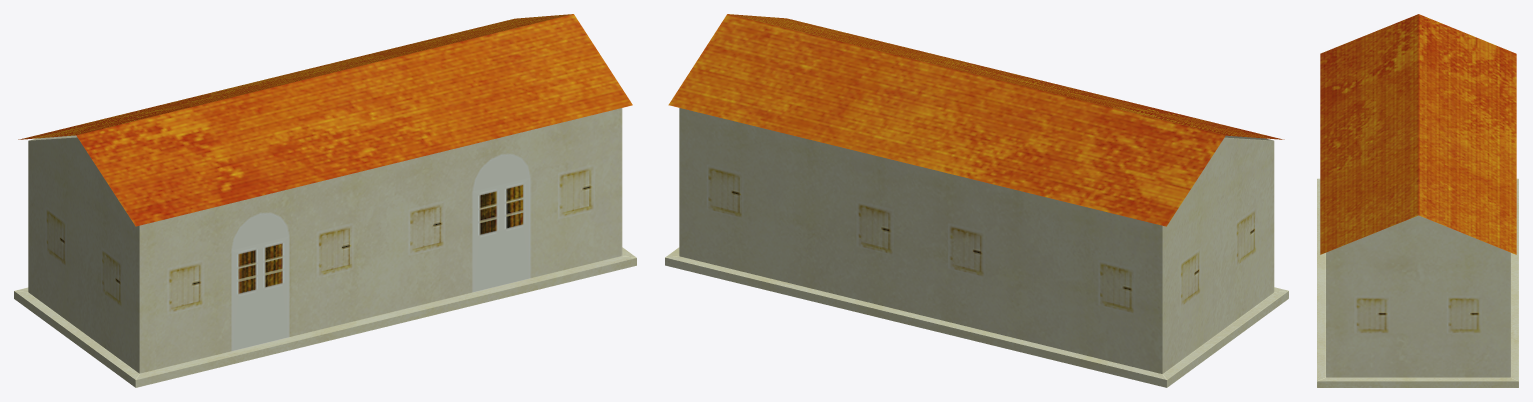
The model's file is House_Semi_D_2_LOD_1.fbx.
3 views of the same model, side by side, from view 1: azimuth 30°, elevation 25°; view 2: azimuth 150°, elevation 25°; view 3: azimuth 270°, elevation 25° (orthographic). The views are drawn at different scales.
Visible parts, largest first — view 1: Cube; view 2: Cube; view 3: Cube.
Boxes of the visible parts, <box> form: Cube: <box>14,14,636,387</box>; Cube: <box>665,14,1288,387</box>; Cube: <box>1317,14,1518,387</box>.
Size of the model in its own units: 1038 by 410 by 437.
